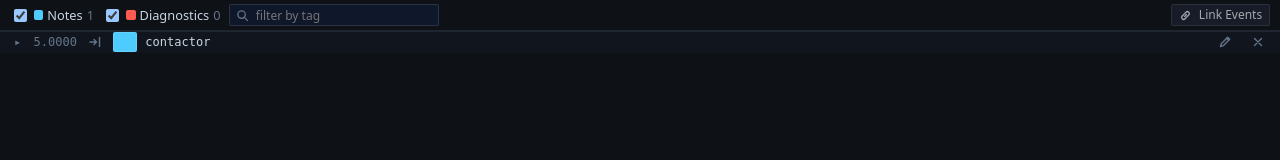
Test: EventsPanel event body › keeps the body collapsed until the row is disclosed
What coordinates should you click on to do the following:
click the button named "show event details"
I would click on:
 (18, 42)
Its box is [10, 36, 26, 48].
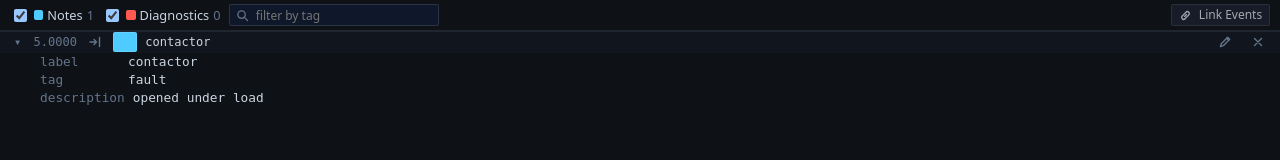
expect the text "opened under load" is shown: met, box [133, 90, 264, 105]
expect the text "fault" is shown: met, box [128, 72, 166, 87]
Note: ...and folds back up.
What coordinates should you click on to do the following:
click the button named "hide event details"
I would click on:
 (18, 42)
Its box is [10, 36, 26, 48].
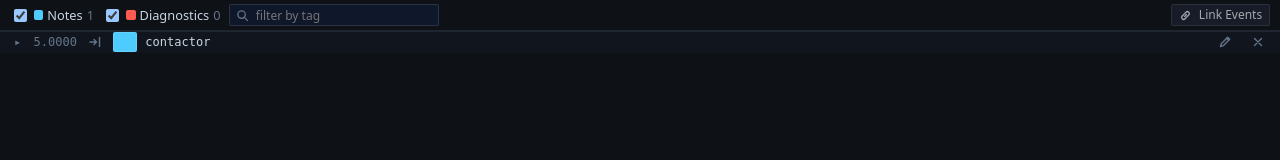
expect the text "opened under load" is gone: met
